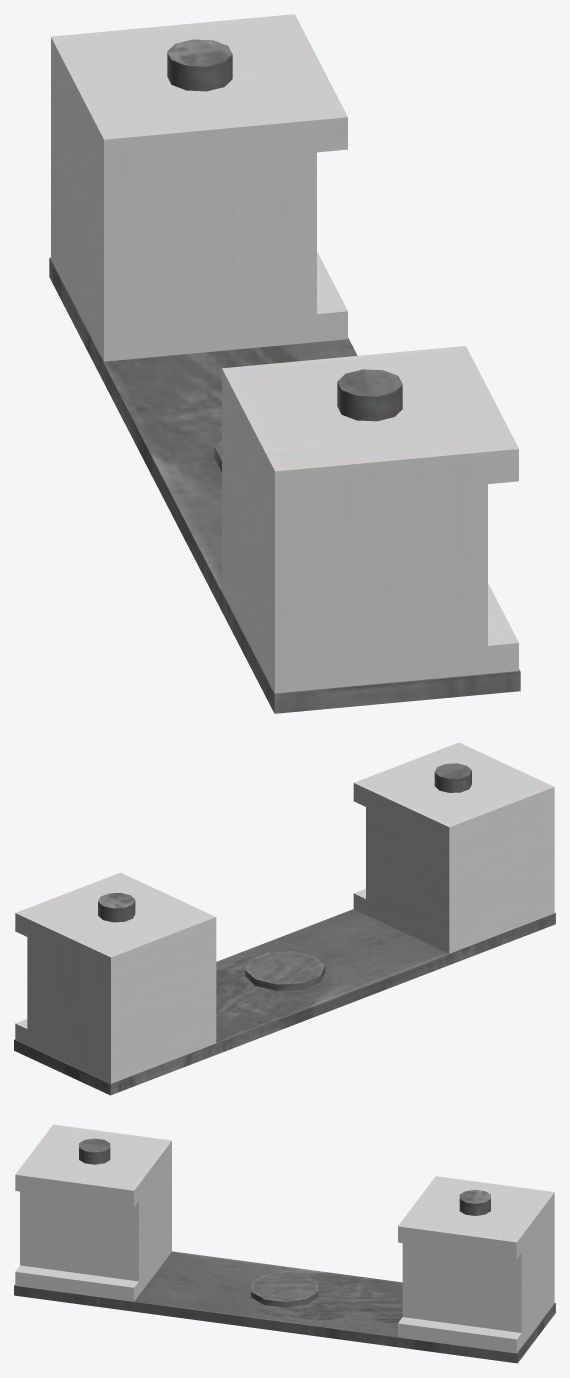
Rendered from tool_pipe_bender_crossbow_nozzle_08.glb.
3 views of the same model, one above another, from view 1: azimuth 30°, elevation 25°; view 2: azimuth 150°, elevation 25°; view 3: azimuth 270°, elevation 25° (orthographic). The views are drawn at different scales.
Visible parts, largest first — view 1: tool_pipe_bender_crossbow_nozzle_08; view 2: tool_pipe_bender_crossbow_nozzle_08; view 3: tool_pipe_bender_crossbow_nozzle_08.
Part boxes in pixels (x1=…): tool_pipe_bender_crossbow_nozzle_08: x1=49, y1=14, x2=520, y2=713; tool_pipe_bender_crossbow_nozzle_08: x1=14, y1=742, x2=555, y2=1095; tool_pipe_bender_crossbow_nozzle_08: x1=14, y1=1124, x2=555, y2=1363.
Bounding box in the file's own units: 0.0904 × 0.0473 × 0.1745.
Materials: 1 (1 with a texture image).
